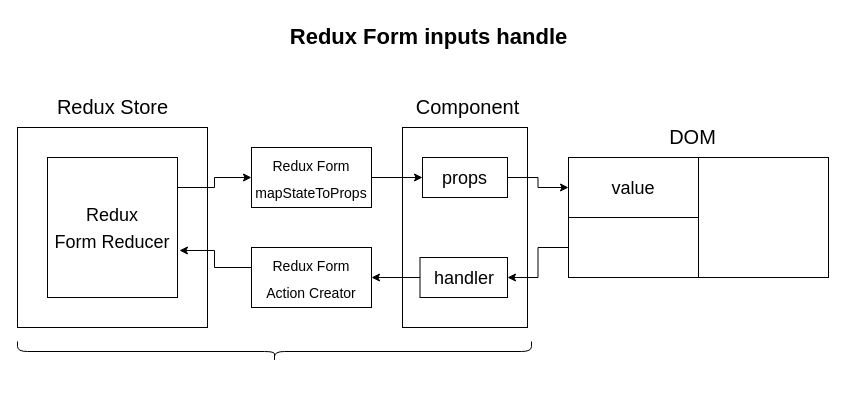
Image size: 846x409. Some labels were removed from this diagram. The centre of each missing label's shape, as x and y in pixels:
"Handled by Redux Form automatically" goes at [274,351].
"Input Element" goes at [763,217].
"onChange" goes at [633,247].
